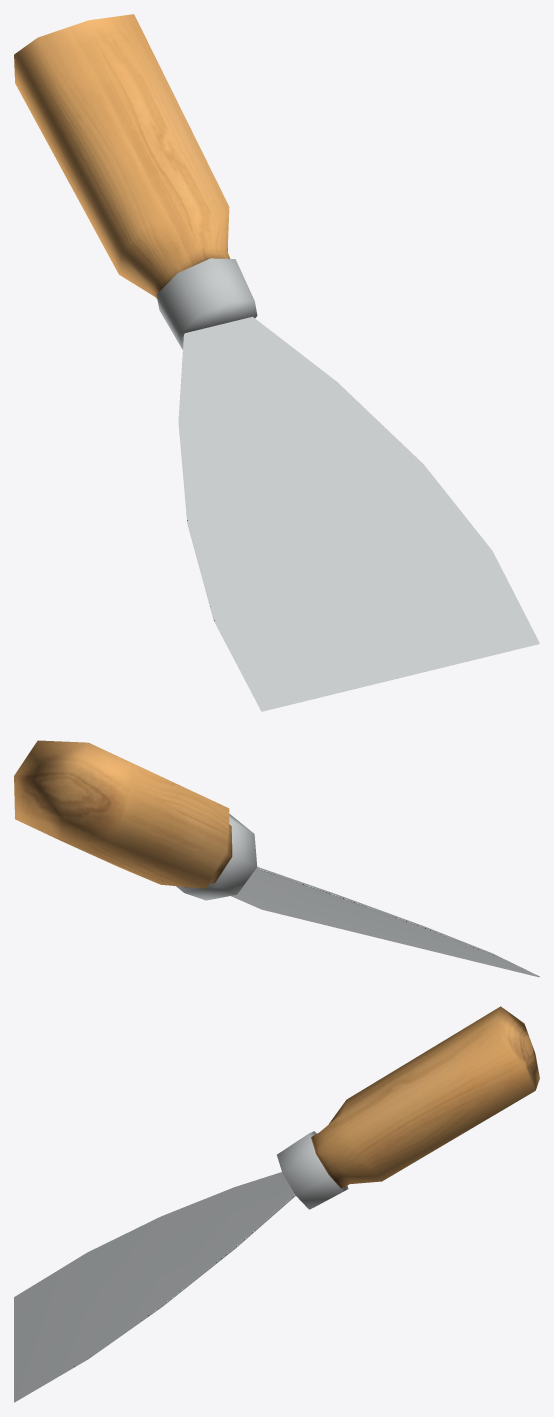
The picture shows the model from 3 angles, top to bottom: view 1: azimuth 30°, elevation 25°; view 2: azimuth 150°, elevation 25°; view 3: azimuth 270°, elevation 25°; orthographic projection. The views are drawn at different scales.
Parts seen in each view (by area): view 1: HC:polySurface1; view 2: HC:polySurface1; view 3: HC:polySurface1.
Part boxes in pixels (left/top/right/bottom): HC:polySurface1: left=14, top=14, right=539, bottom=711; HC:polySurface1: left=14, top=740, right=539, bottom=977; HC:polySurface1: left=14, top=1006, right=539, bottom=1402.
Size of the model in its own units: 5.39 by 7.96 by 11.44.
Materials: 1 (1 with a texture image).
